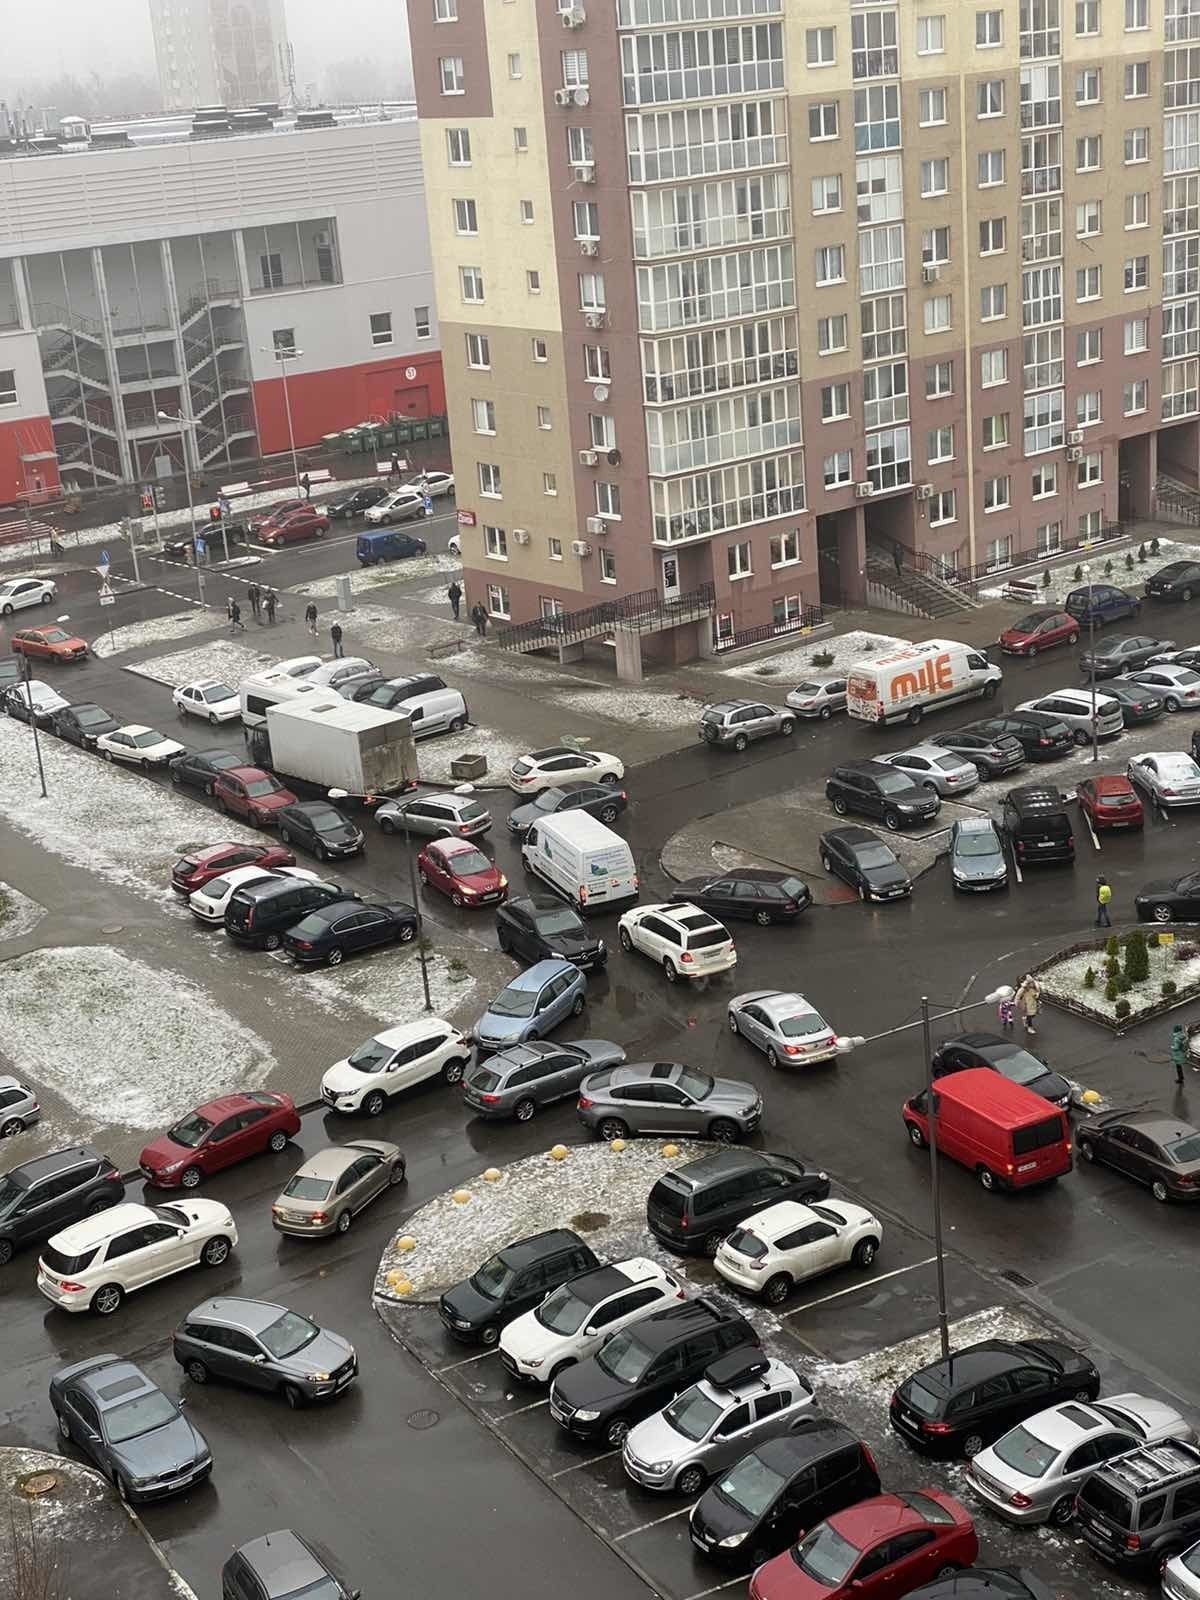Car: (547, 1298, 759, 1445), (966, 1395, 1199, 1527), (621, 1347, 816, 1497), (688, 1421, 882, 1567), (747, 1487, 979, 1600), (889, 1338, 1100, 1459), (49, 1356, 214, 1503), (498, 1259, 686, 1387), (37, 1201, 238, 1317), (901, 1066, 1074, 1191), (171, 1296, 359, 1406), (645, 1149, 832, 1257), (250, 695, 418, 808), (439, 1230, 597, 1347), (713, 1198, 884, 1306), (137, 1091, 301, 1193), (1073, 1443, 1200, 1574), (320, 1017, 470, 1117), (579, 1061, 763, 1143), (0, 1148, 125, 1267), (271, 1141, 407, 1241), (846, 641, 1003, 727), (463, 1041, 626, 1123), (522, 809, 640, 913), (1073, 1110, 1200, 1204), (932, 1034, 1071, 1112), (476, 959, 587, 1054), (221, 1529, 359, 1600), (618, 903, 737, 984), (284, 900, 417, 968), (727, 990, 839, 1071), (224, 879, 355, 947), (495, 897, 608, 973), (188, 866, 323, 926), (826, 762, 940, 831), (672, 868, 812, 923), (819, 826, 911, 905), (170, 842, 296, 896), (508, 784, 629, 839), (417, 837, 508, 910), (1001, 785, 1076, 871), (241, 670, 342, 733), (1016, 689, 1124, 745), (906, 1565, 1073, 1600), (915, 727, 1025, 780), (376, 792, 493, 842), (508, 748, 625, 797), (963, 713, 1075, 762), (212, 766, 299, 829), (875, 747, 979, 799), (277, 803, 366, 863), (700, 702, 797, 753), (948, 818, 1011, 894), (1124, 751, 1200, 810), (95, 724, 184, 772), (1113, 664, 1200, 713), (1079, 634, 1176, 677), (1079, 679, 1163, 728), (170, 750, 256, 797), (997, 610, 1079, 659), (1076, 775, 1143, 834), (395, 688, 468, 741), (1063, 583, 1139, 627), (363, 670, 446, 711), (0, 679, 72, 726), (163, 520, 245, 561), (1134, 871, 1200, 921), (171, 680, 241, 727), (11, 626, 89, 666), (50, 704, 118, 750), (0, 1072, 42, 1139), (785, 678, 847, 721), (256, 511, 329, 547), (355, 530, 426, 567), (1145, 559, 1200, 603), (303, 656, 383, 687), (250, 500, 315, 535), (0, 577, 57, 617), (1161, 1542, 1200, 1600), (328, 486, 386, 523), (366, 494, 425, 527), (335, 674, 392, 703), (395, 470, 455, 496), (1146, 646, 1200, 674), (0, 654, 30, 698), (268, 656, 323, 677), (1187, 726, 1200, 762), (449, 535, 461, 559)
